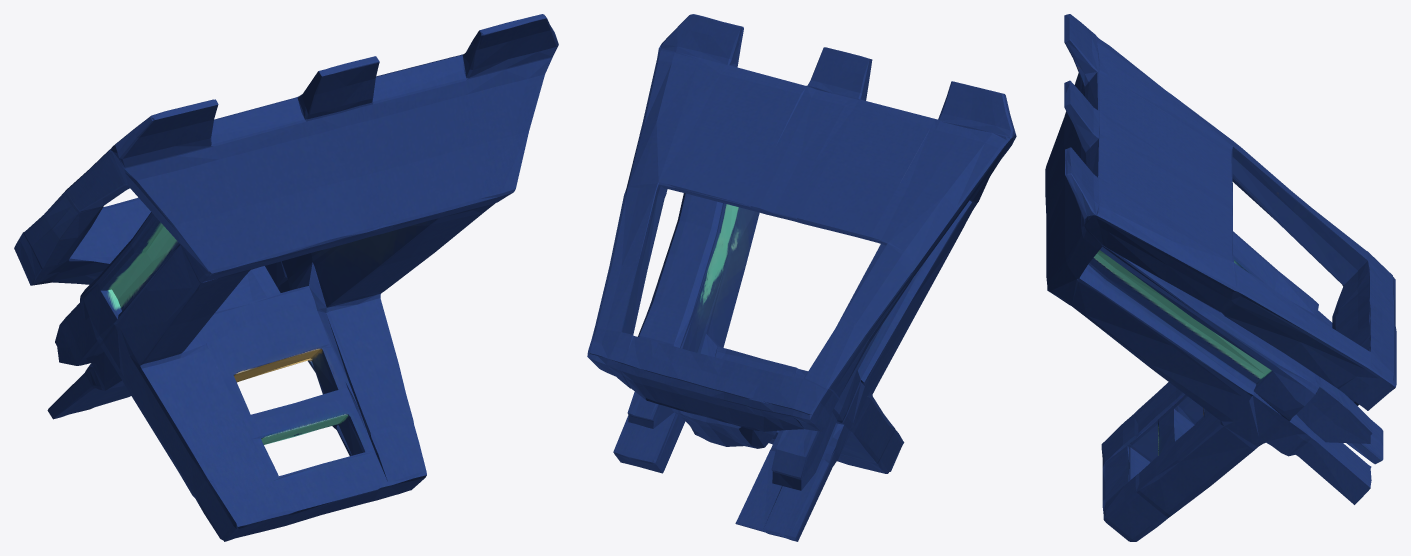
Rendered from impossible-trident.glb.
3 renders of one model, left to right at view 1: azimuth 30°, elevation 25°; view 2: azimuth 150°, elevation 25°; view 3: azimuth 270°, elevation 25°, orthographic. The views are drawn at different scales.
Parts seen in each view (by area): view 1: tripo_node_5b2e7652-30d1-46fa-9558-6230c9ec797d; view 2: tripo_node_5b2e7652-30d1-46fa-9558-6230c9ec797d; view 3: tripo_node_5b2e7652-30d1-46fa-9558-6230c9ec797d.
Boxes of the visible parts, x1,y1,x2,y2 form: tripo_node_5b2e7652-30d1-46fa-9558-6230c9ec797d: (14,14,558,541); tripo_node_5b2e7652-30d1-46fa-9558-6230c9ec797d: (587,14,1016,541); tripo_node_5b2e7652-30d1-46fa-9558-6230c9ec797d: (1045,14,1396,541).
Bounding box in the file's own units: 0.959 × 0.998 × 0.7676.
Materials: 1 (1 with a texture image).
